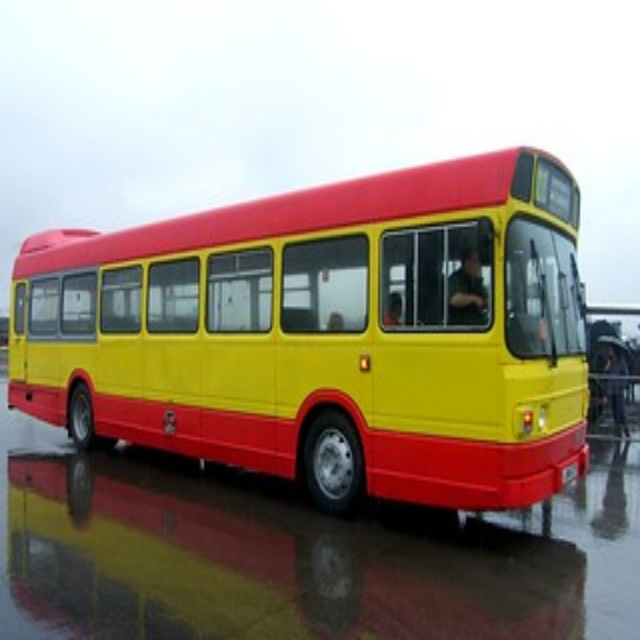Bus: (6, 144, 590, 512)
